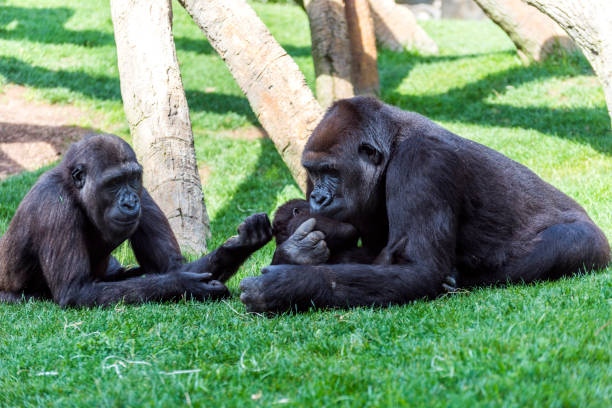chimpanzee: (275, 85, 398, 239), (35, 113, 163, 257)
